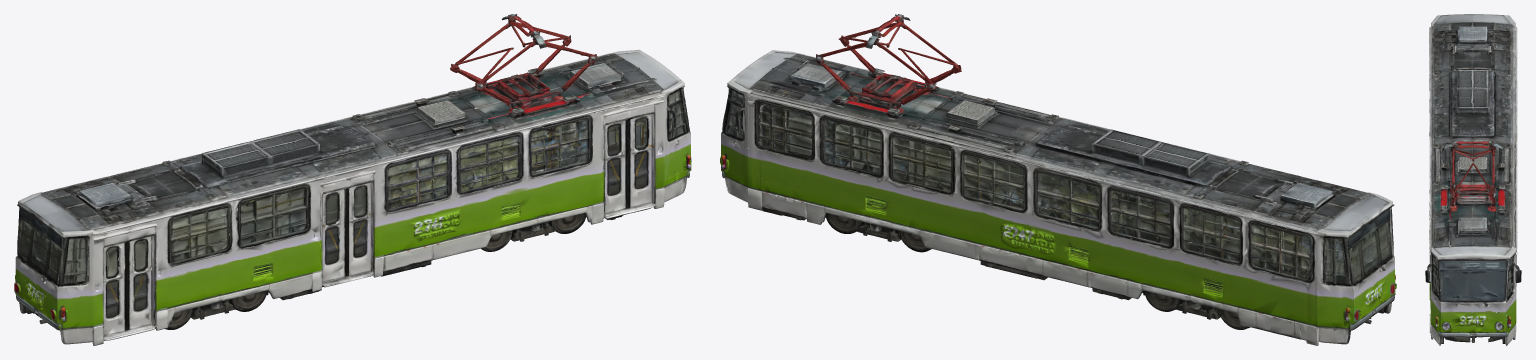
3 renders of one model, left to right at view 1: azimuth 30°, elevation 25°; view 2: azimuth 150°, elevation 25°; view 3: azimuth 270°, elevation 25°, orthographic. The views are drawn at different scales.
Visible parts, largest first — view 1: Tatra_T6B5; view 2: Tatra_T6B5; view 3: Tatra_T6B5.
Boxes of the visible parts, <box> form: Tatra_T6B5: <box>14,14,691,345</box>; Tatra_T6B5: <box>720,14,1396,345</box>; Tatra_T6B5: <box>1425,14,1521,345</box>.
Size of the model in its own units: 15.3 by 4.7 by 2.5.
1 material, 1 textured.
